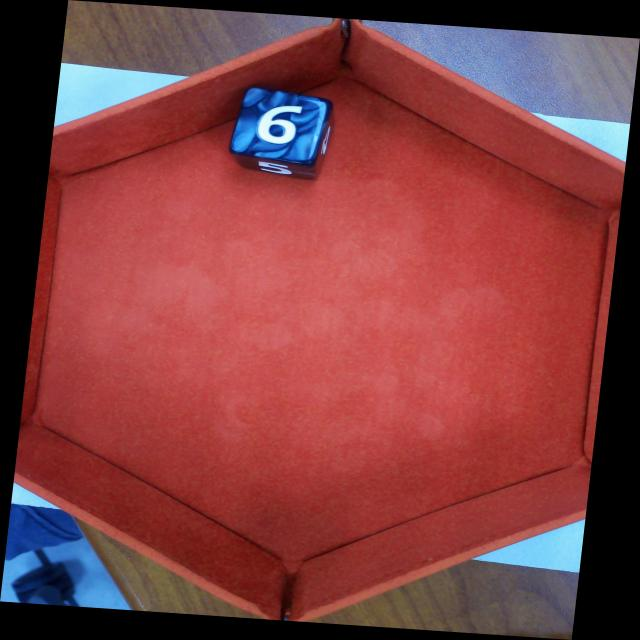dice: (229, 87, 334, 167)
